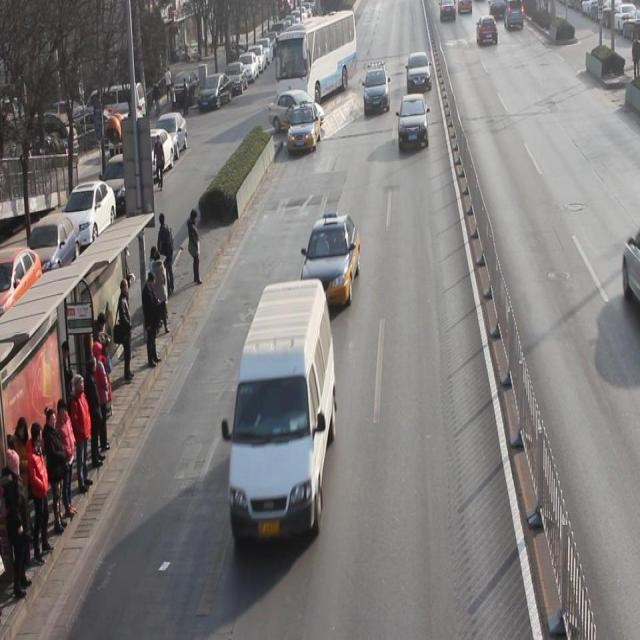car: (300, 214, 360, 306), (270, 89, 326, 134), (398, 94, 430, 153), (287, 103, 321, 153), (363, 67, 391, 116), (407, 51, 432, 95), (476, 15, 498, 48)
truck: (228, 279, 338, 547)
van: (274, 11, 357, 110)
